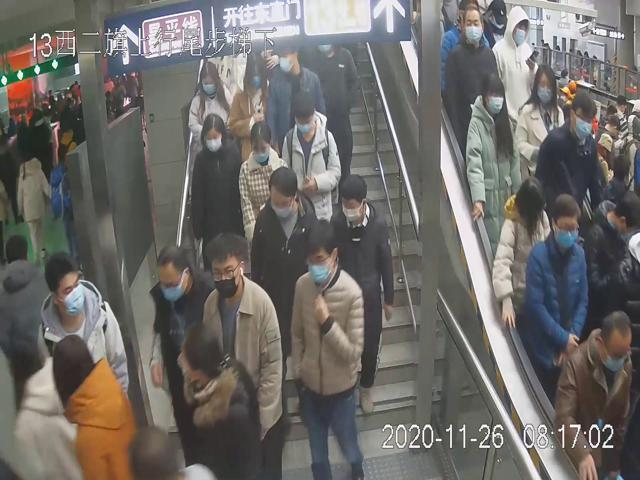person: (288, 220, 368, 480), (198, 230, 286, 465), (323, 175, 394, 417), (251, 168, 324, 371), (523, 192, 586, 389), (462, 70, 520, 263), (188, 113, 242, 273), (445, 3, 498, 153), (280, 93, 340, 224), (238, 121, 288, 253), (264, 45, 324, 148), (186, 60, 231, 148), (229, 51, 272, 131)
